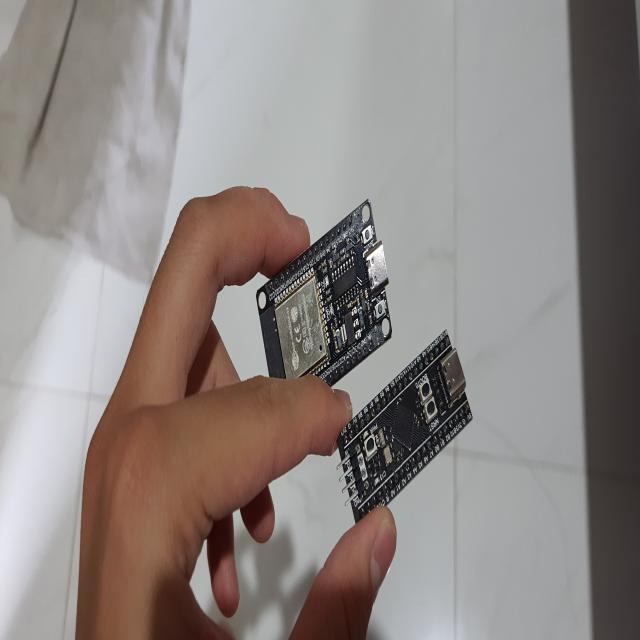ESP32: (257, 201, 392, 385)
STM32: (341, 332, 472, 522)
